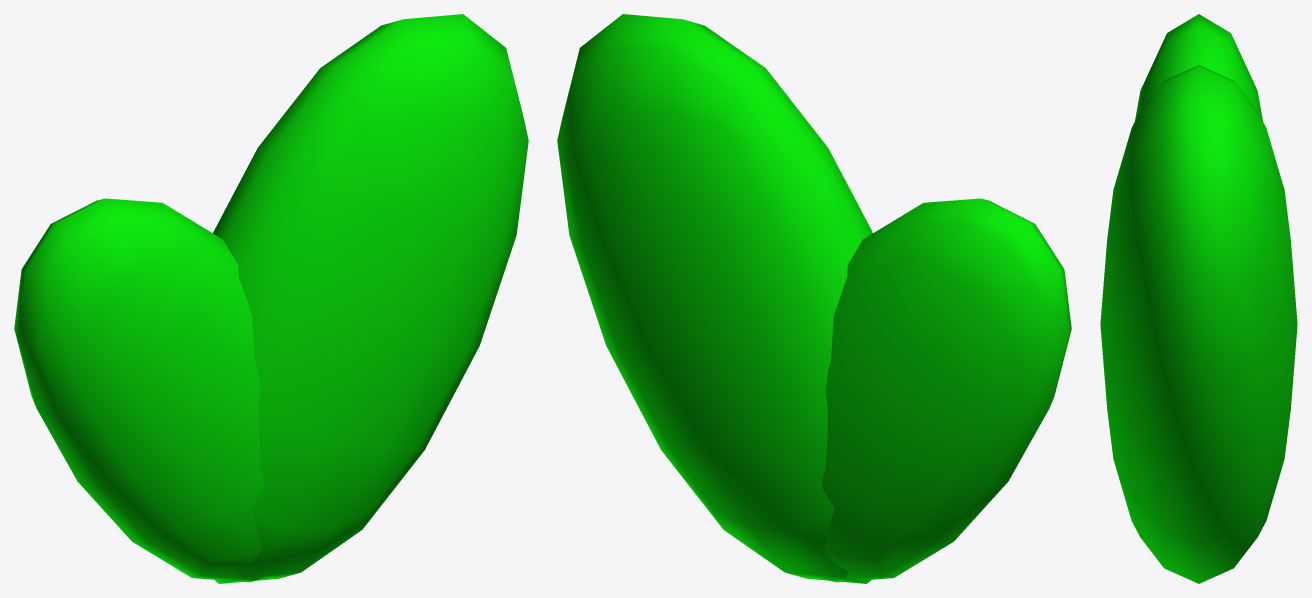
The model's file is Grass_1.fbx.
The picture shows the model from 3 angles, left to right: view 1: azimuth 30°, elevation 25°; view 2: azimuth 150°, elevation 25°; view 3: azimuth 270°, elevation 25°; orthographic projection. The views are drawn at different scales.
Visible parts, largest first — view 1: Grass_1; view 2: Grass_1; view 3: Grass_1.
Part boxes in pixels (x1,y1,x2,y2): Grass_1: (14, 14, 528, 583); Grass_1: (557, 14, 1071, 583); Grass_1: (1100, 14, 1297, 583).
Size of the model in its own units: 21.95 by 21.93 by 6.77.
